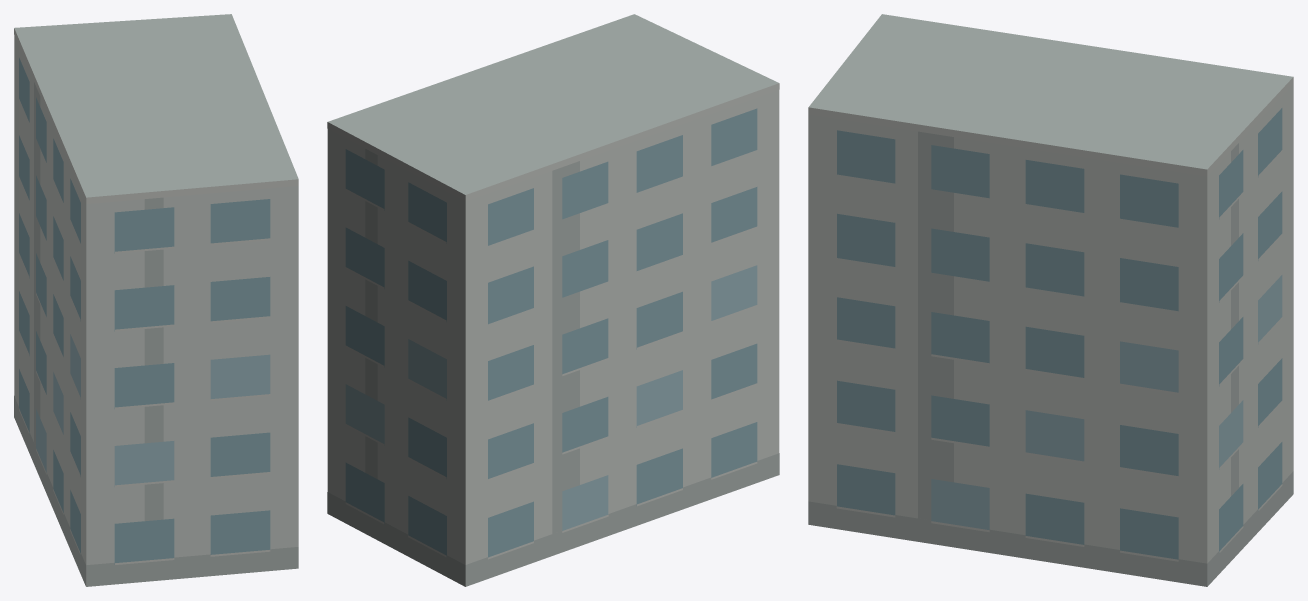
File: survey-upis-32881777.glb
3 renders of one model, left to right at view 1: azimuth 30°, elevation 25°; view 2: azimuth 150°, elevation 25°; view 3: azimuth 270°, elevation 25°, orthographic. The views are drawn at different scales.
Visible parts, largest first — view 1: survey-upis-32881777.tmp; view 2: survey-upis-32881777.tmp; view 3: survey-upis-32881777.tmp.
Part boxes in pixels (x1,y1,x2,y2): survey-upis-32881777.tmp: (14,14,298,586); survey-upis-32881777.tmp: (327,14,779,586); survey-upis-32881777.tmp: (808,14,1293,586).
Size of the model in its own units: 11.44 by 14.3 by 15.08.
